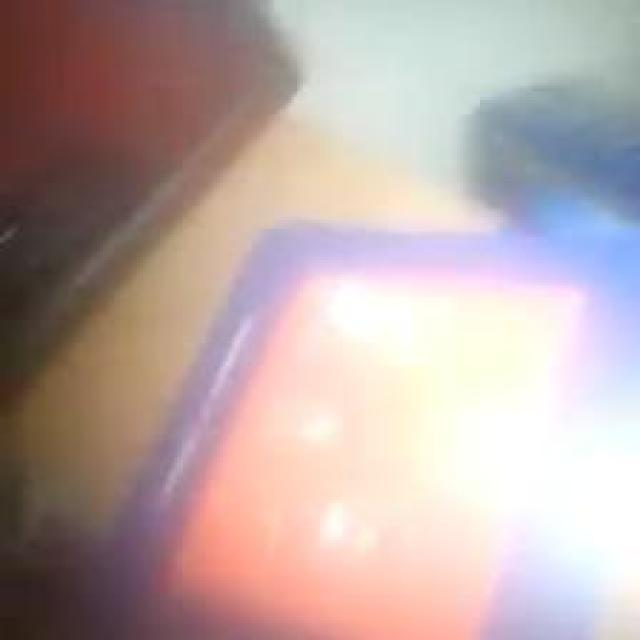other: (295, 266, 604, 586)
